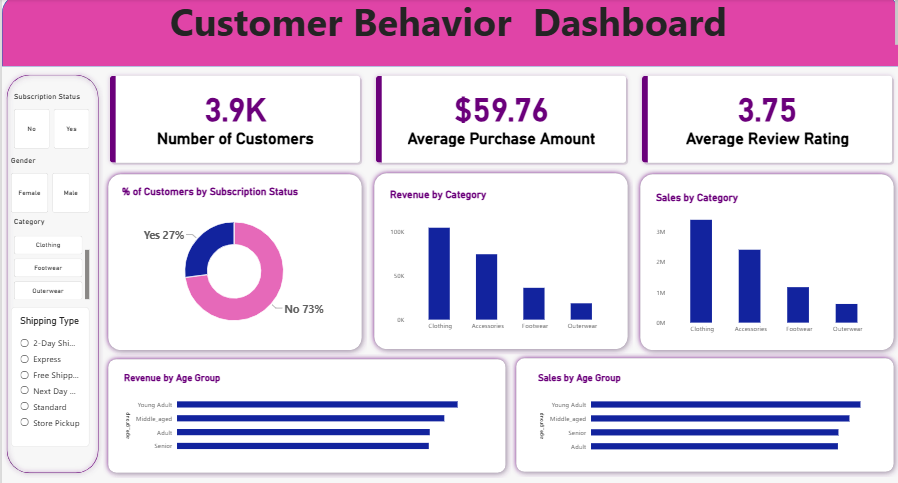

What the dashboard file says about the page in this screenshot:
{"tool":"powerbi","page":{"name":"Page 1","canvas":[2000,1500],"ordinal":0},"visuals":[{"type":"cardVisual","fields":{"Data":["public customer.Number of Customers","public customer.Average Purchase Amount","public customer.Average Rating"]},"box":[192,142,1500,186],"z":0},{"type":"shape","box":[0,0,1692.5,135],"z":1000},{"type":"textbox","box":[0,0,1692.5,95],"z":2000},{"type":"shape","box":[191.1,328.6,498.2,351.8],"z":3000},{"type":"donutChart","title":"% of Customers by Subscription Status","fields":{"Category":["public customer.subscription_status"],"Y":["Count(public customer.customer_id)"]},"box":[208.9,344.6,457.1,316.1],"z":4000},{"type":"shape","box":[692.9,326.8,498.2,351.8],"z":5000},{"type":"shape","box":[1194.6,328.6,498.2,351.8],"z":6000},{"type":"clusteredColumnChart","title":"Revenue by Category","fields":{"Category":["public customer.category"],"Y":["Sum(public customer.purchase_amount)"]},"box":[714.3,351.8,455.4,303.6],"z":7000},{"type":"clusteredColumnChart","title":"Sales by Category","fields":{"Category":["public customer.category"],"Y":["Sum(public customer.customer_id)"]},"box":[1216.1,357.1,455.4,303.6],"z":8000},{"type":"shape","box":[0,141.1,191.1,769.6],"z":9000},{"type":"advancedSlicerVisual","fields":{"Values":["public customer.subscription_status"]},"box":[23.2,182.1,142.9,107.1],"z":10000},{"type":"advancedSlicerVisual","fields":{"Values":["public customer.gender"]},"box":[17.9,303.6,148.2,107.1],"z":11000},{"type":"advancedSlicerVisual","fields":{"Values":["public customer.category"]},"box":[23.2,419.6,142.9,155.4],"z":12000},{"type":"listSlicer","fields":{"Values":["public customer.shipping_type"]},"box":[17.9,589.3,148.2,264.3],"z":13000},{"type":"shape","box":[191.1,676.8,769.6,233.9],"z":14000},{"type":"clusteredBarChart","title":"Revenue by Age Group","fields":{"Category":["public customer.age_group"],"Y":["Sum(public customer.purchase_amount)"]},"box":[212.5,696.4,730.4,189.3],"z":15000},{"type":"shape","box":[960,676,732,234],"z":15001},{"type":"clusteredBarChart","title":"Sales by Age Group","fields":{"Category":["public customer.age_group"],"Y":["Count(public customer.customer_id)"]},"box":[994,696,678,190],"z":15002}]}

Visuals, with their boxes on the page's 2000x1500 design canvas (x1, y1, x2, y2). These are canvas units, not pixel positions in the 898x483 screenshot, which may show the page scaled, cropped or inside an application window:
cardVisual - public customer.Number of Customers x public customer.Average Purchase Amount: [left=192, top=142, right=1692, bottom=328]
shape: [left=0, top=0, right=1692, bottom=135]
textbox: [left=0, top=0, right=1692, bottom=95]
shape: [left=191, top=329, right=689, bottom=680]
"% of Customers by Subscription Status" donutChart: [left=209, top=345, right=666, bottom=661]
shape: [left=693, top=327, right=1191, bottom=679]
shape: [left=1195, top=329, right=1693, bottom=680]
"Revenue by Category" clusteredColumnChart: [left=714, top=352, right=1170, bottom=655]
"Sales by Category" clusteredColumnChart: [left=1216, top=357, right=1672, bottom=661]
shape: [left=0, top=141, right=191, bottom=911]
advancedSlicerVisual - public customer.subscription_status: [left=23, top=182, right=166, bottom=289]
advancedSlicerVisual - public customer.gender: [left=18, top=304, right=166, bottom=411]
advancedSlicerVisual - public customer.category: [left=23, top=420, right=166, bottom=575]
listSlicer - public customer.shipping_type: [left=18, top=589, right=166, bottom=854]
shape: [left=191, top=677, right=961, bottom=911]
"Revenue by Age Group" clusteredBarChart: [left=212, top=696, right=943, bottom=886]
shape: [left=960, top=676, right=1692, bottom=910]
"Sales by Age Group" clusteredBarChart: [left=994, top=696, right=1672, bottom=886]
